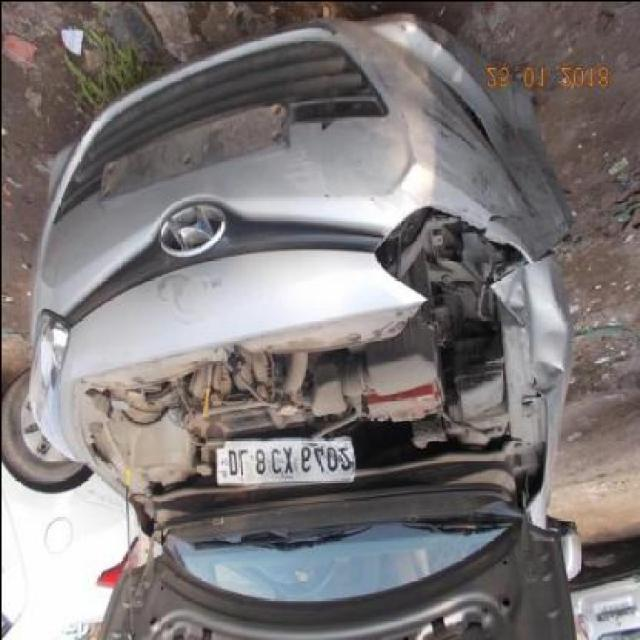damage: (378, 200, 529, 298), (498, 256, 567, 395), (355, 44, 411, 133), (423, 114, 478, 150), (284, 138, 313, 190), (264, 21, 338, 38), (480, 212, 520, 235), (491, 110, 516, 143), (298, 116, 337, 131)
